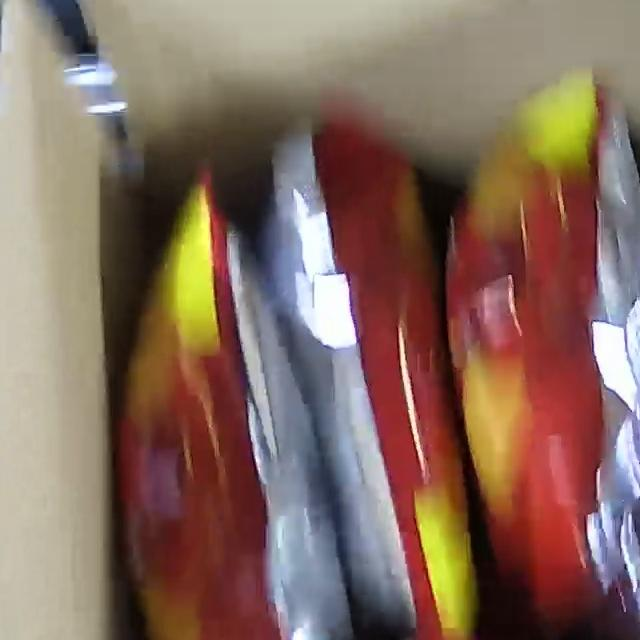masala: (111, 71, 640, 640)
